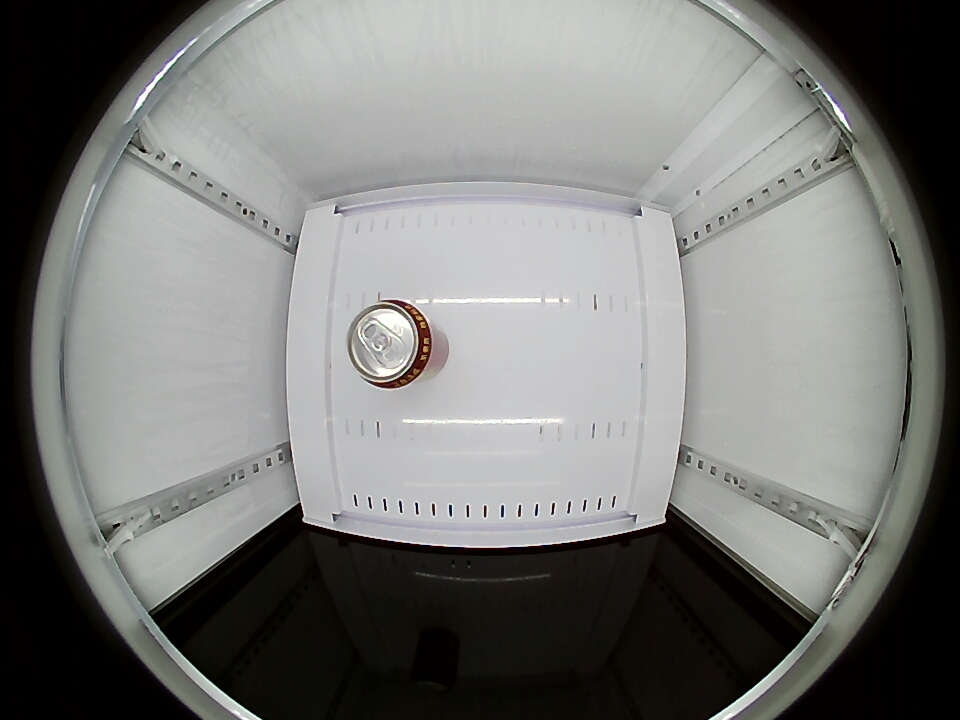wanglaoji-c: (347, 299, 437, 389)
